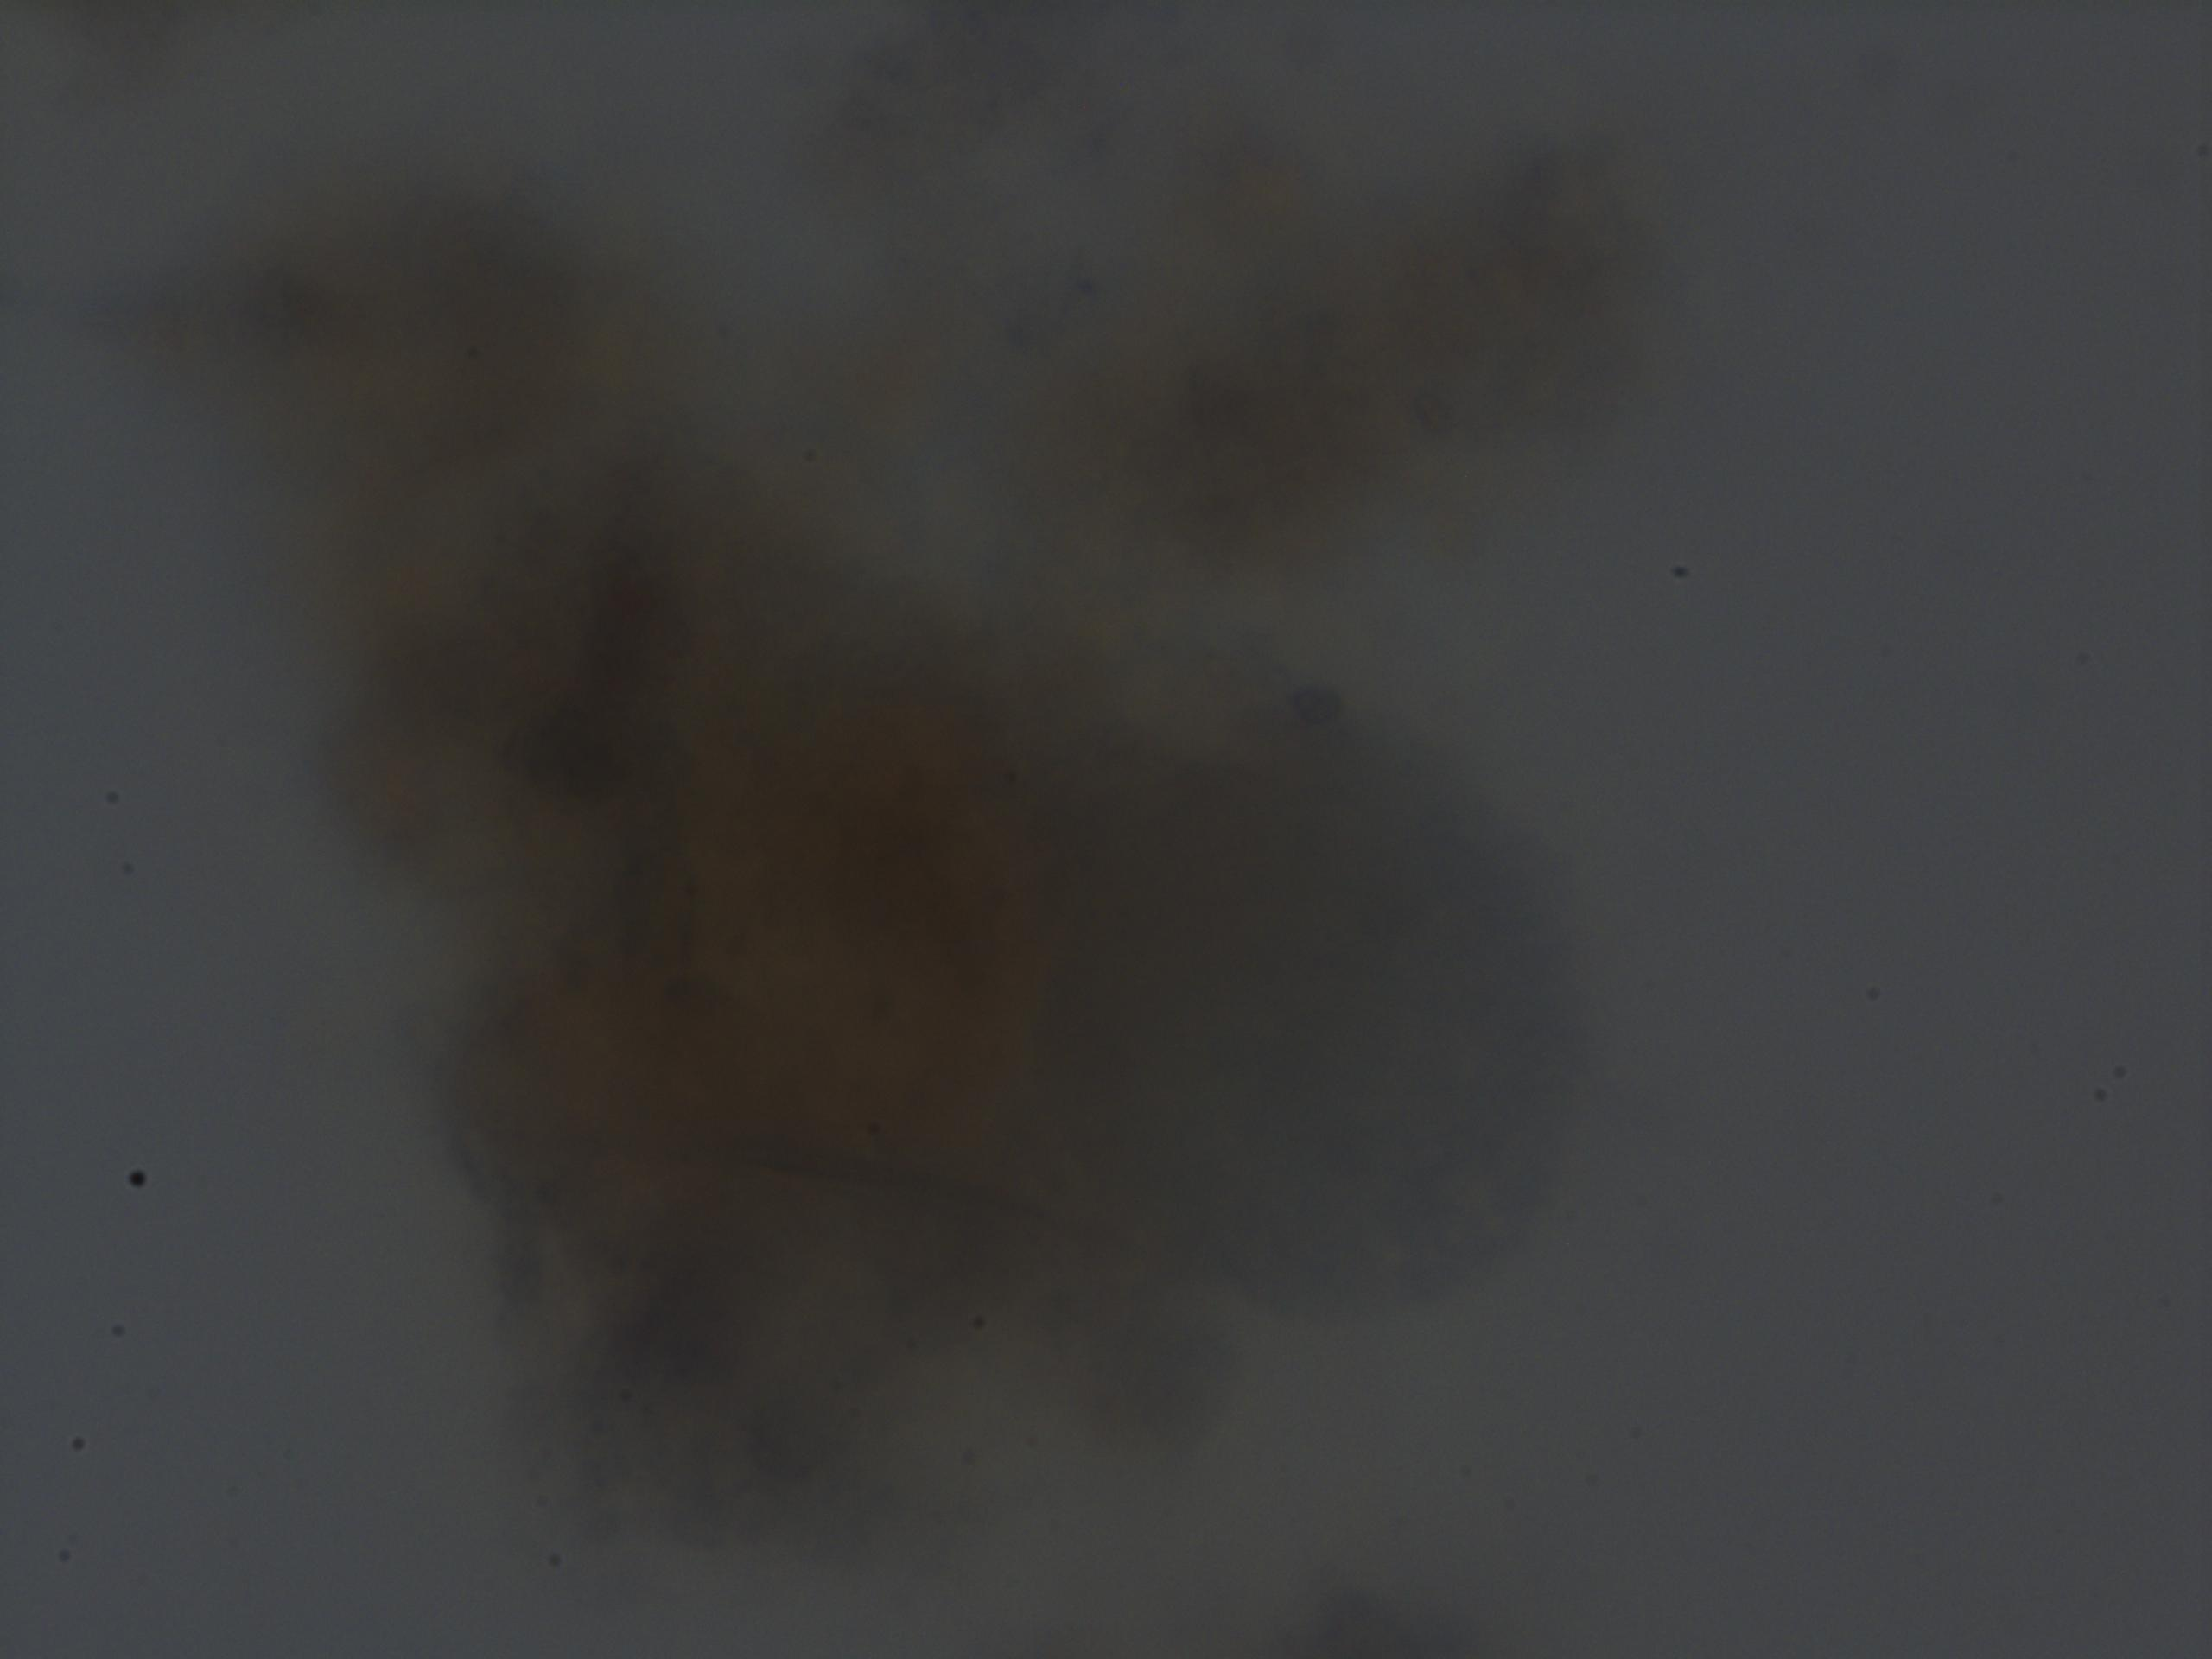spherical_floc: (206, 383, 1169, 1521)
